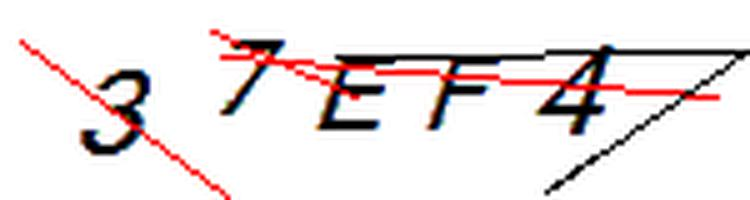3: (70, 63, 172, 161)
4: (528, 40, 632, 142)
7: (205, 29, 291, 125)
E: (313, 46, 403, 140)
F: (419, 46, 508, 138)
